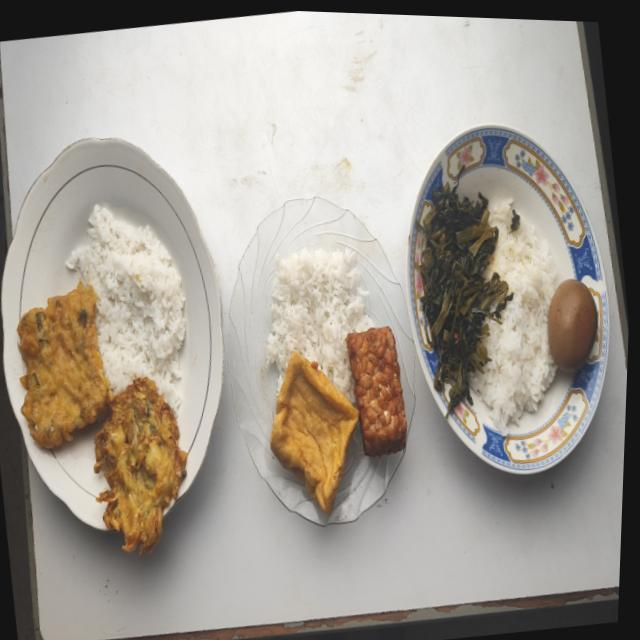nasi_putih: (66, 205, 187, 415), (469, 198, 557, 432), (265, 248, 376, 398)
tahu_goreng: (270, 352, 358, 512)
tempe_goreng: (346, 327, 406, 456)
tumis_kangkung: (413, 182, 514, 414)
